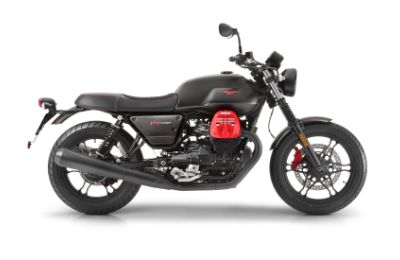motorcycle: (25, 23, 369, 215)
